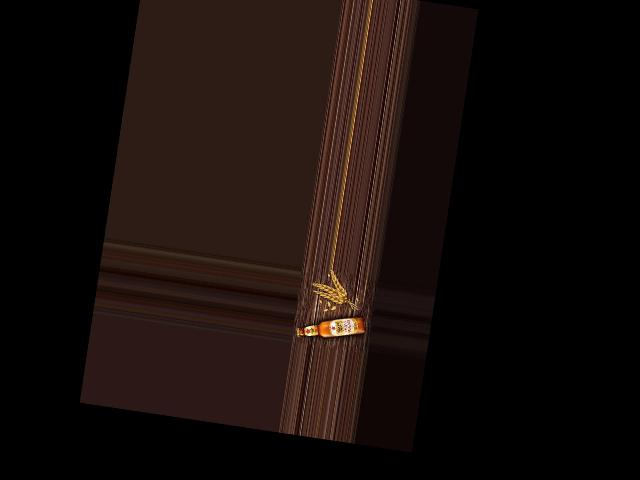beer: (295, 307, 367, 347)
